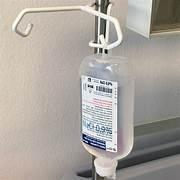Iv_Bottle: (79, 54, 134, 165)
